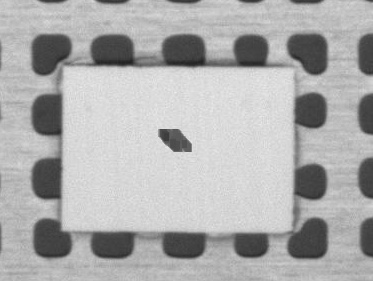DIE_INK: (202, 96, 269, 115)
